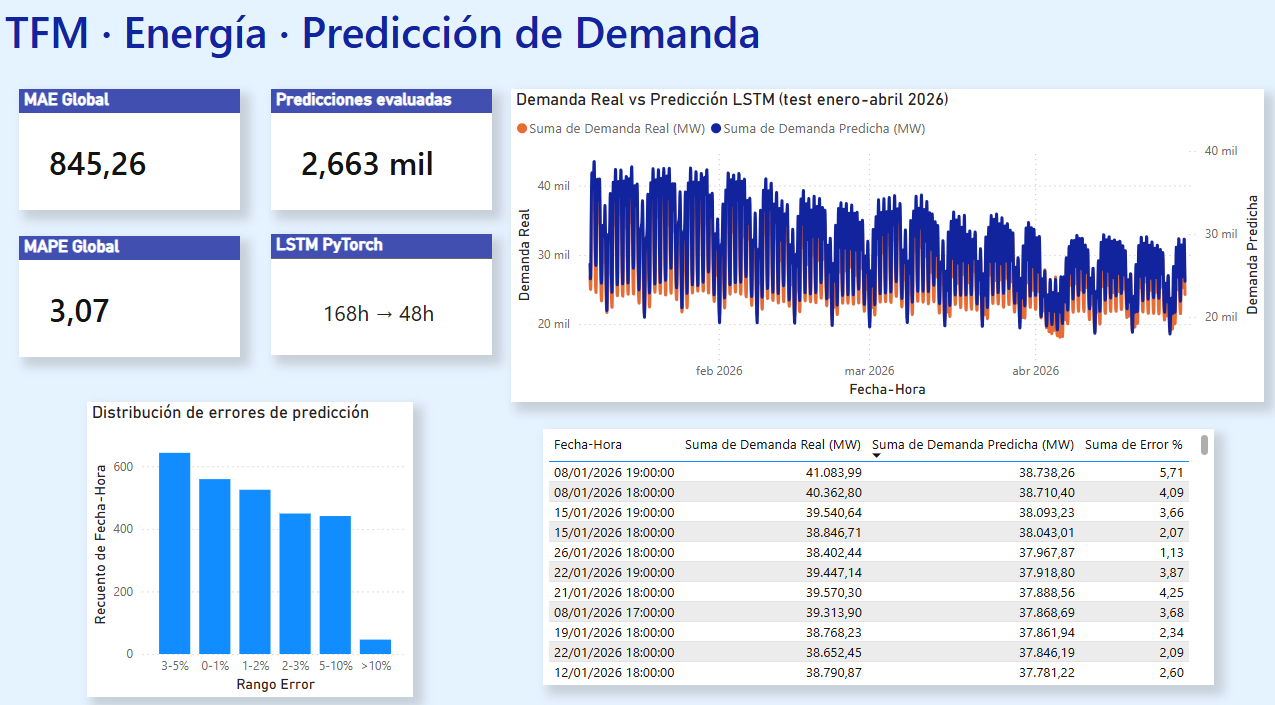

The dashboard page shown, as its layout file describes it:
{"tool":"powerbi","page":{"name":"1. Predicción","canvas":[1280,720],"ordinal":0},"visuals":[{"type":"textbox","box":[0,0,825.8,75.9],"z":0},{"type":"cardVisual","title":"MAE Global","fields":{"Data":["Avg(demanda_predicciones.Error Absoluto (MW))"]},"box":[19,92,221,121],"z":1000},{"type":"cardVisual","title":"MAPE Global","fields":{"Data":["Avg(demanda_predicciones.Error %)"]},"box":[19,239,221,121],"z":2000},{"type":"cardVisual","title":"Predicciones evaluadas","fields":{"Data":["CountNonNull(demanda_predicciones.Fecha-Hora)"]},"box":[271,92,221,121],"z":3000},{"type":"textbox","title":"LSTM PyTorch","box":[271,237,221,121],"z":4000},{"type":"lineChart","title":"Demanda Real vs Predicción LSTM (test enero-abril 2026)","fields":{"Y":["Sum(demanda_predicciones.Demanda Real (MW))"],"Y2":["Sum(demanda_predicciones.Demanda Predicha (MW))"],"Category":["demanda_predicciones.Fecha-Hora"]},"box":[511,92,753,313],"z":5000},{"type":"clusteredColumnChart","title":"Distribución de errores de predicción","fields":{"Category":["demanda_predicciones.Rango Error"],"Y":["CountNonNull(demanda_predicciones.Fecha-Hora)"]},"box":[87,405,326,295],"z":6000},{"type":"tableEx","fields":{"Values":["demanda_predicciones.Fecha-Hora","Sum(demanda_predicciones.Demanda Real (MW))","Sum(demanda_predicciones.Demanda Predicha (MW))","Sum(demanda_predicciones.Error %)"]},"box":[543,432,671,256],"z":7000}]}

Visuals, with their boxes in screenshot pixels (x1, y1, x2, y2), scaled from the page's 1280x720 canvas onto the 1275x705 screenshot:
textbox: rect(0, 0, 823, 74)
"MAE Global" cardVisual: rect(19, 90, 239, 209)
"MAPE Global" cardVisual: rect(19, 234, 239, 352)
"Predicciones evaluadas" cardVisual: rect(270, 90, 490, 209)
"LSTM PyTorch" textbox: rect(270, 232, 490, 351)
"Demanda Real vs Predicción LSTM (test enero-abril 2026)" lineChart: rect(509, 90, 1259, 397)
"Distribución de errores de predicción" clusteredColumnChart: rect(87, 397, 411, 685)
tableEx - demanda_predicciones.Fecha-Hora x Sum(demanda_predicciones.Demanda Real (MW)): rect(541, 423, 1209, 674)
